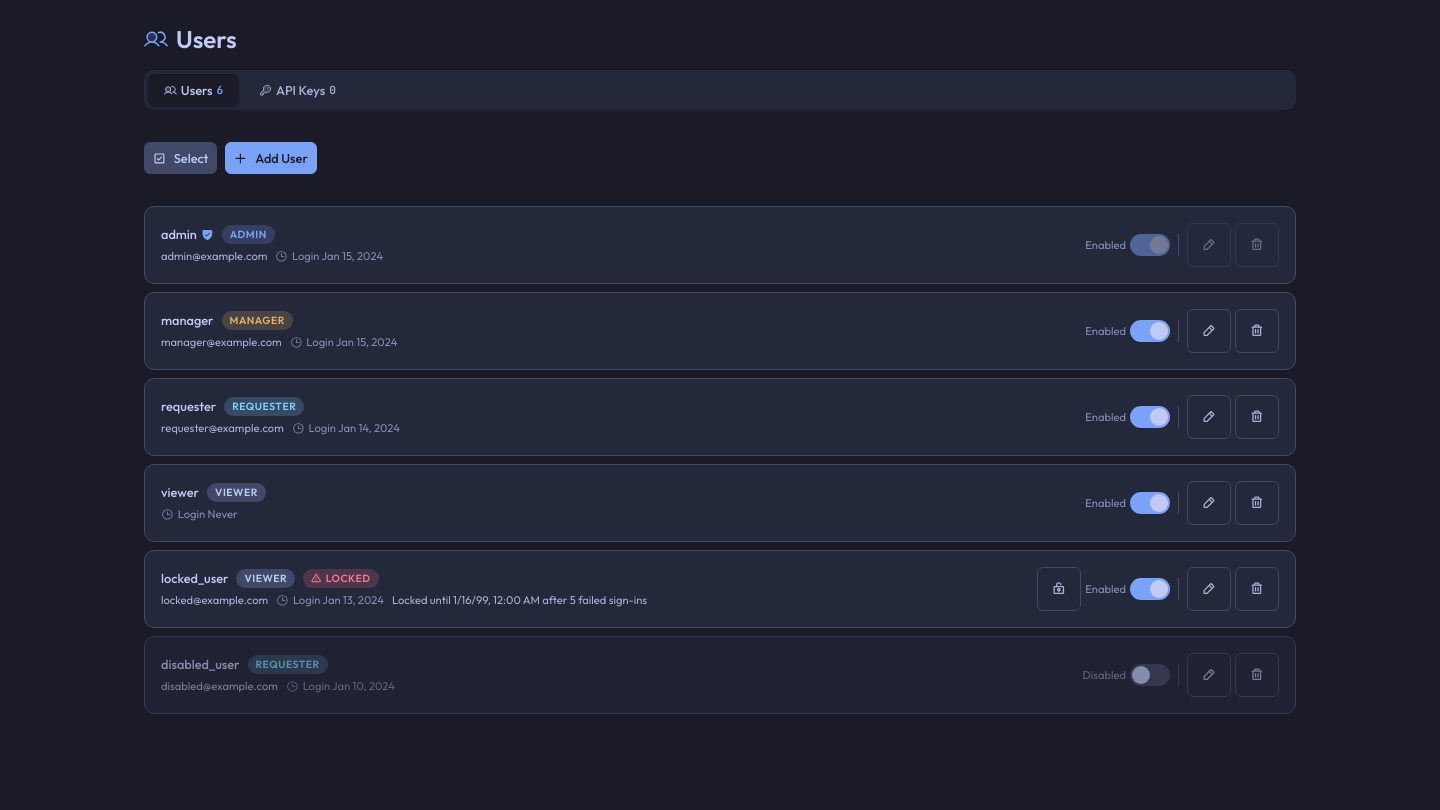
Test case: UsersPage actions › opens edit form when edit button is clicked
Click the button named "edit manager": (1209,331) left=1187, top=309, right=1231, bottom=353
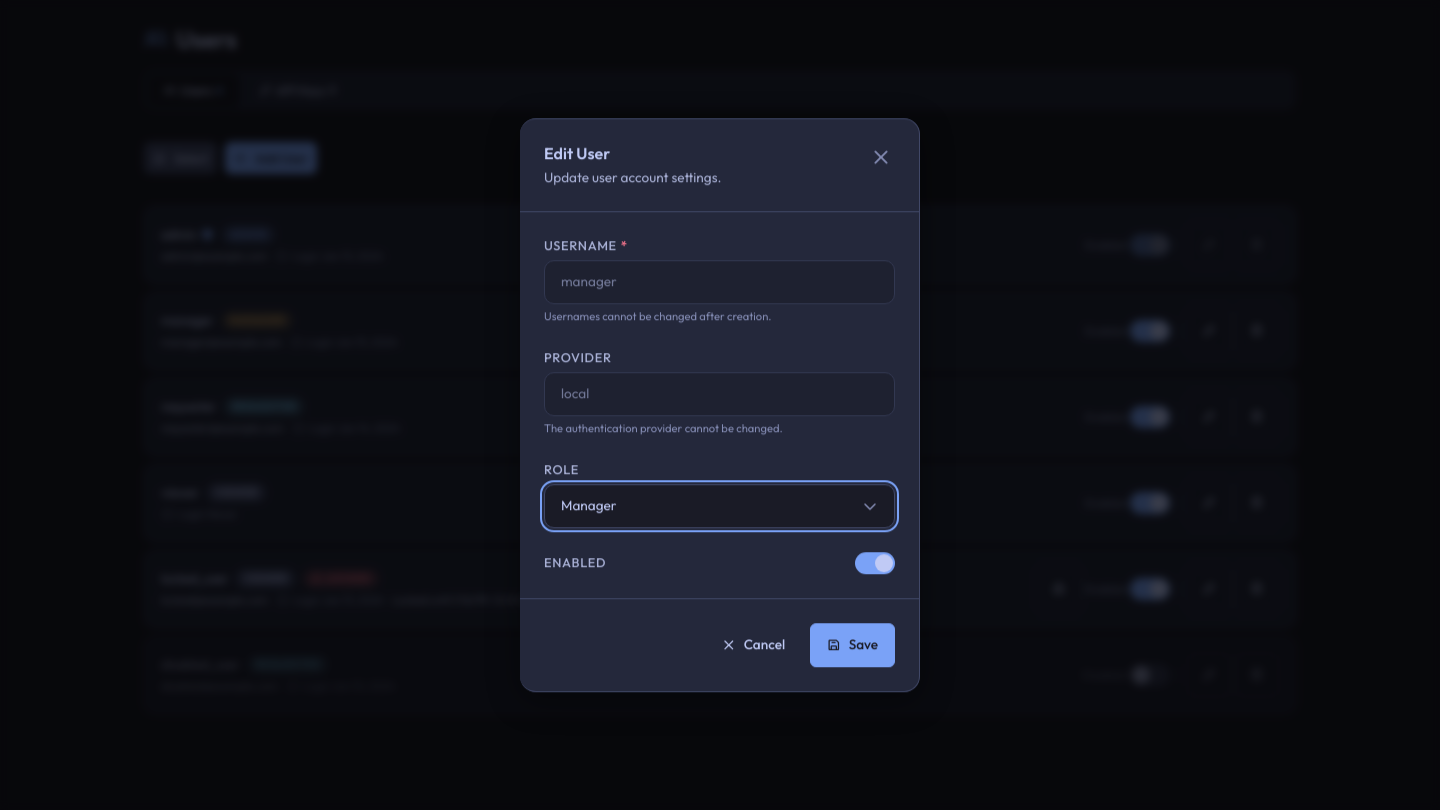
Now the heading "Edit User" is shown, box left=544, top=143, right=610, bottom=163
Now the field showing "manager" is shown, box left=545, top=264, right=894, bottom=300
